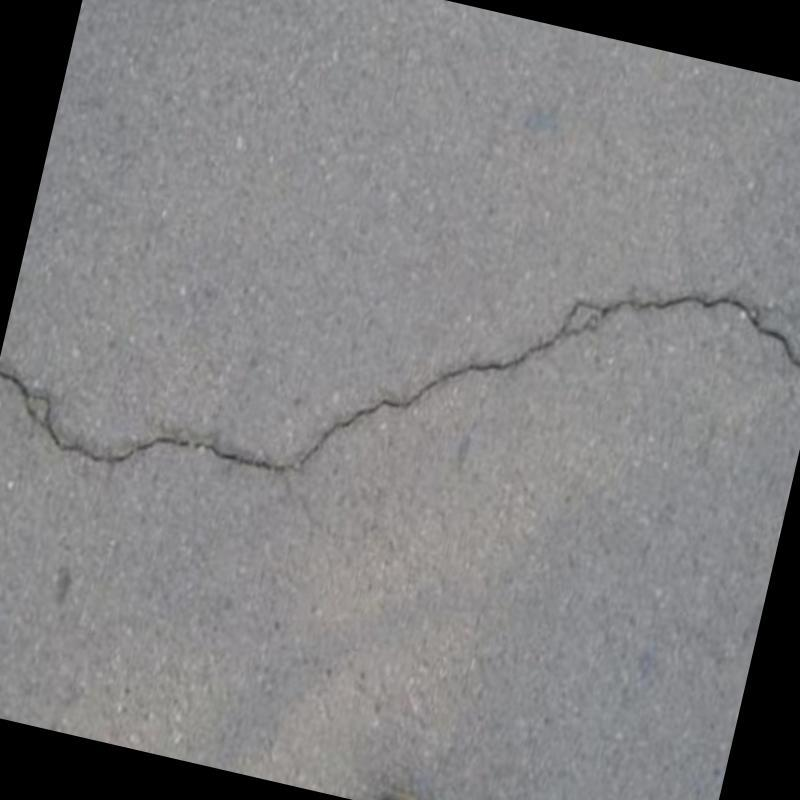pothole: (0, 293, 800, 470)
